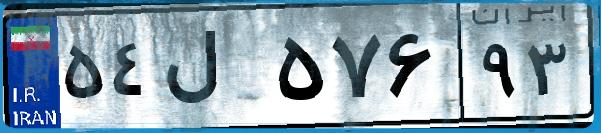3: (525, 38, 570, 115)
4: (110, 28, 158, 98)
5: (270, 28, 330, 110), (57, 26, 110, 100)
6: (385, 28, 445, 110)
7: (330, 28, 385, 110)
9: (475, 38, 525, 113)
ل: (158, 20, 270, 120)
